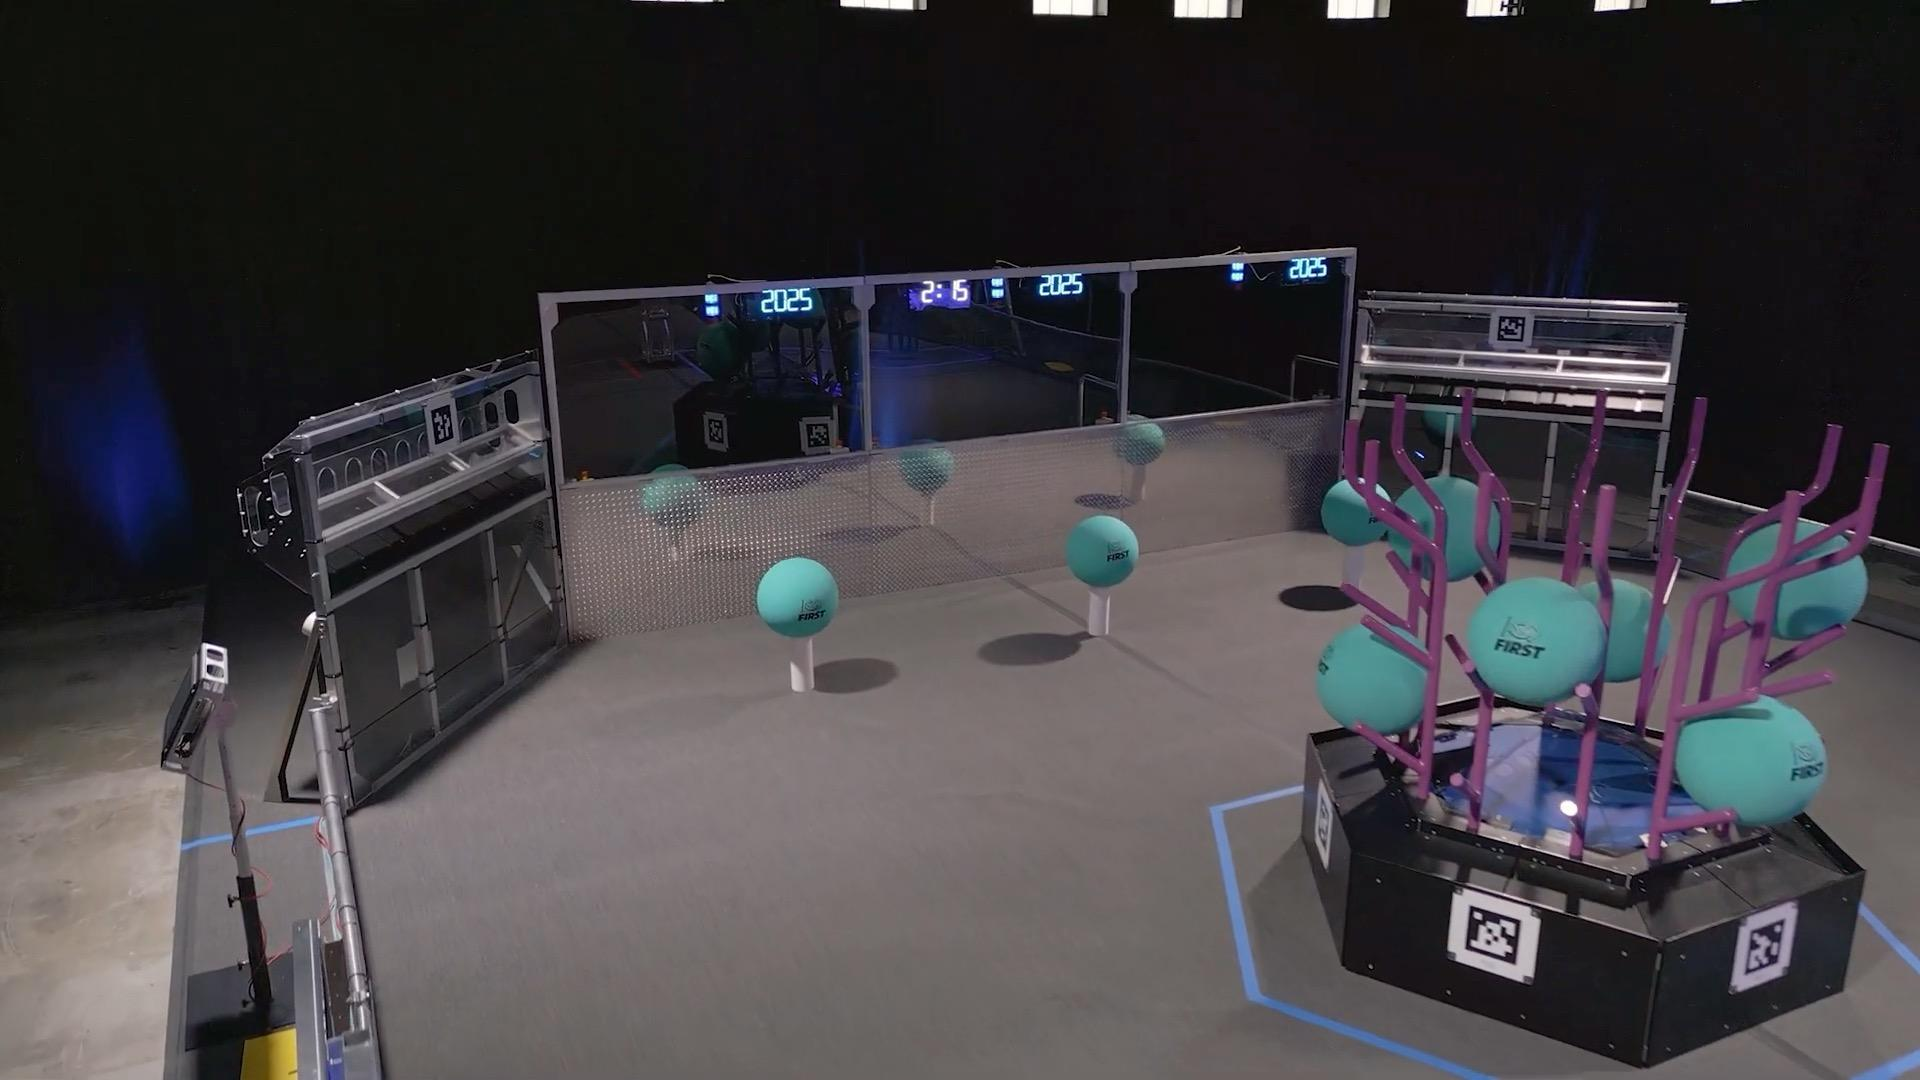ALGAE: (1673, 694, 1826, 828), (1468, 578, 1606, 707), (1726, 520, 1867, 640), (1316, 622, 1431, 735), (1391, 475, 1501, 582), (1571, 578, 1671, 684), (758, 556, 837, 638), (1068, 516, 1139, 587), (1324, 477, 1391, 545)
CORAL: (789, 637, 816, 691), (1089, 587, 1110, 636), (1344, 546, 1364, 593)
